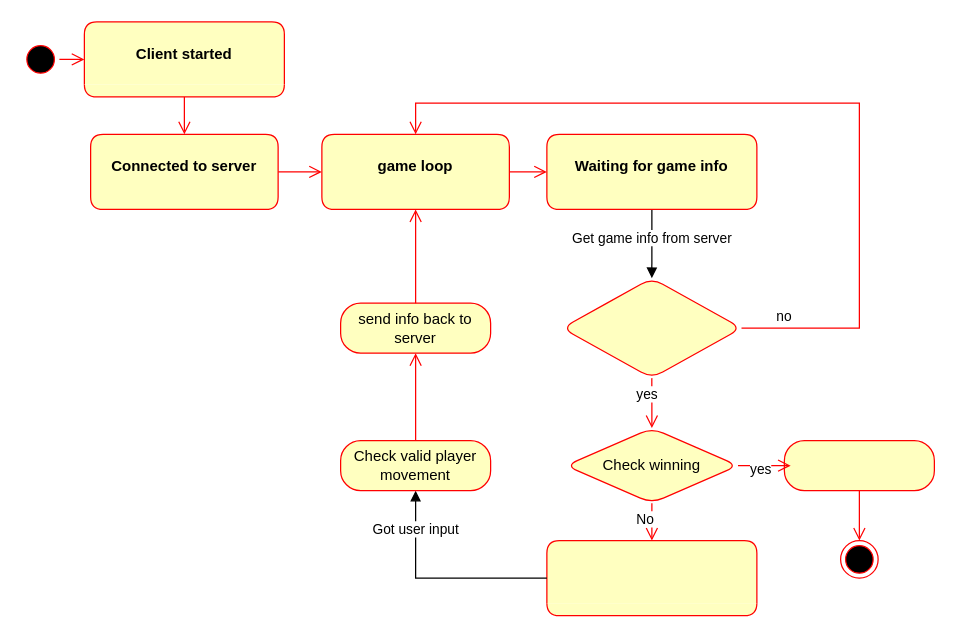
The diagram is 956 pixels wide and 638 high, and some of its shapes have lost their labels. The shapes that lost their labels are listed below. From the top down, each one's centre as x and y in pixels, then its label:
point (651, 327): Check both client connected
point (858, 465): Disconnect
point (651, 577): Waiting for user input
